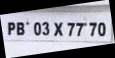character: (53, 21, 63, 36), (16, 21, 24, 35), (33, 21, 41, 35), (41, 21, 49, 35), (66, 22, 74, 36), (75, 22, 83, 36), (88, 22, 96, 36), (97, 22, 105, 36), (7, 22, 15, 34)
